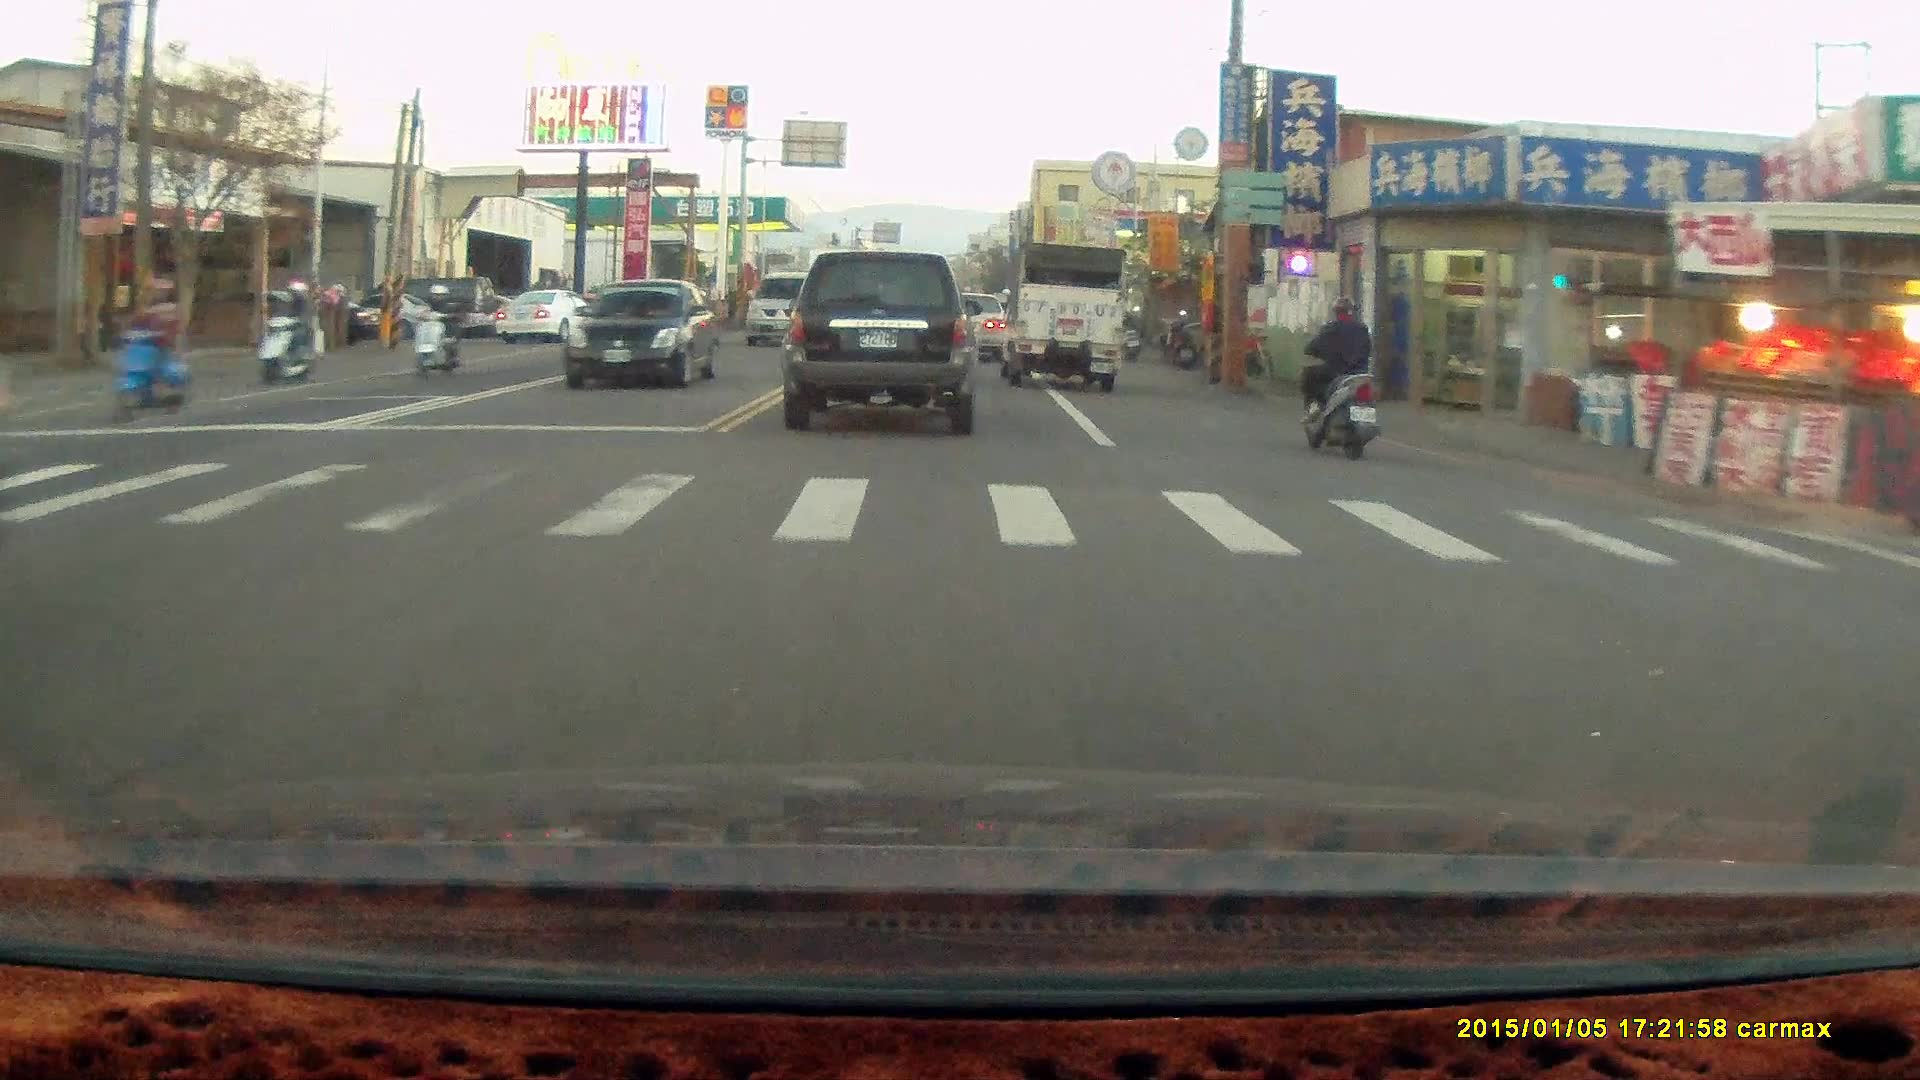rider: (1288, 285, 1380, 451), (100, 273, 185, 422), (252, 278, 320, 386), (407, 283, 464, 378)
vehicle: (778, 252, 984, 435), (995, 242, 1124, 394), (568, 281, 722, 390), (744, 271, 831, 347), (505, 292, 611, 349), (935, 292, 1008, 366)
